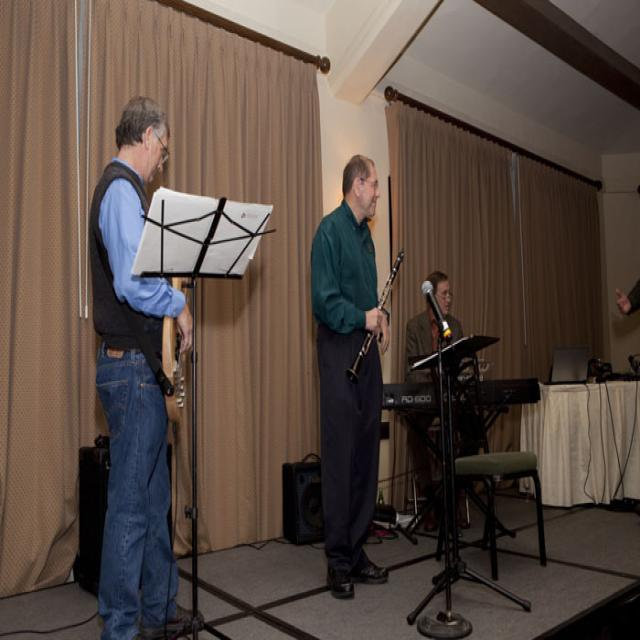clarinet: (345, 245, 409, 388)
